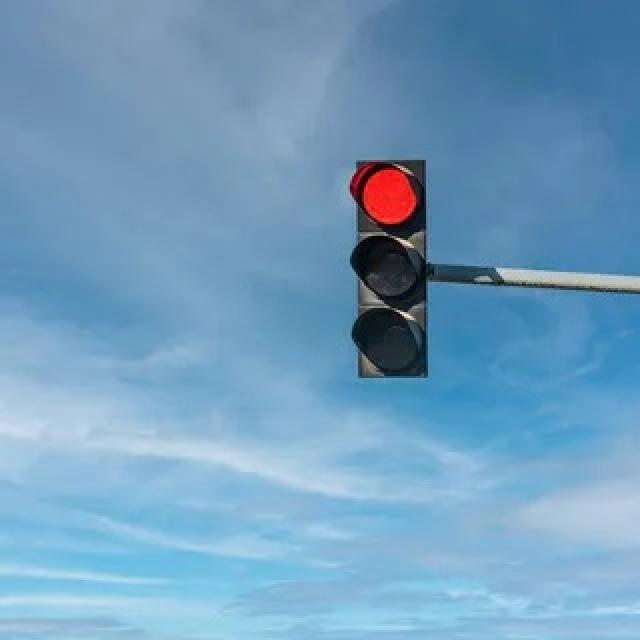kirmizi: (349, 160, 430, 376)
